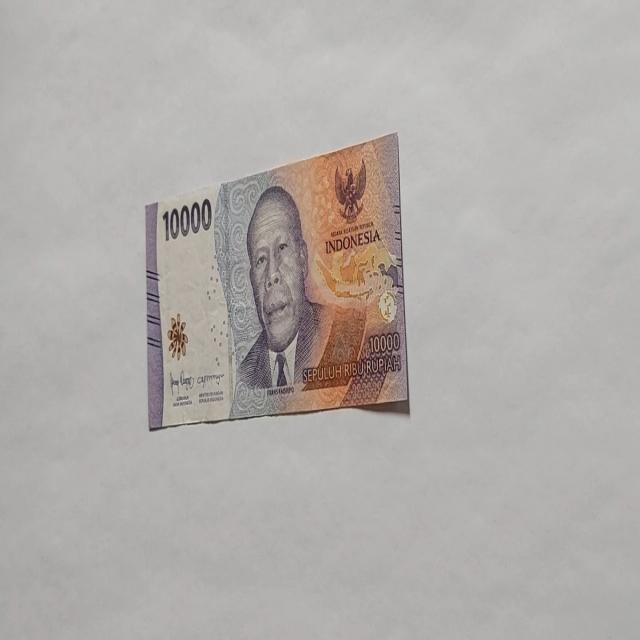sepuluh ribu rupiah: (144, 130, 410, 432), (230, 184, 326, 412)
